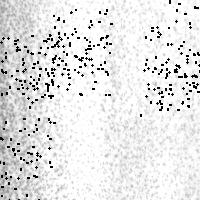pitted_surface: (87, 1, 199, 200), (1, 1, 73, 200), (49, 34, 109, 94), (0, 38, 58, 97), (52, 11, 110, 69), (140, 59, 200, 114), (143, 36, 200, 93), (0, 118, 53, 177), (145, 0, 200, 55), (9, 46, 57, 106), (0, 34, 48, 92), (49, 0, 107, 44), (158, 52, 200, 109), (0, 152, 38, 200)
